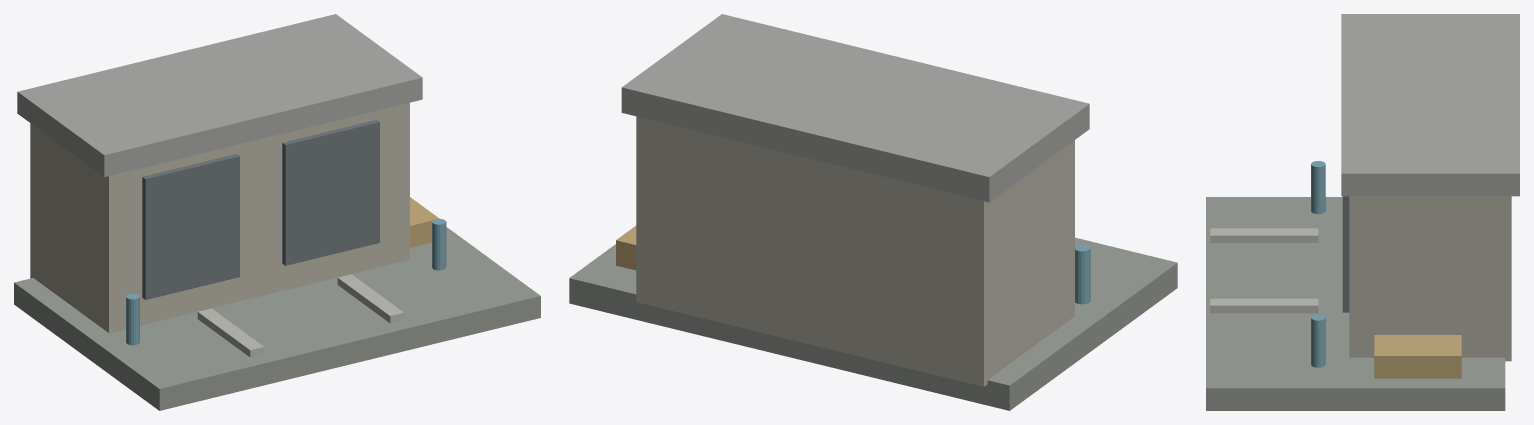
Rendered from builder.glb.
3 views of the same model, side by side, from view 1: azimuth 30°, elevation 25°; view 2: azimuth 150°, elevation 25°; view 3: azimuth 270°, elevation 25° (orthographic). The views are drawn at different scales.
Size of the model in its own units: 2.18 by 1.12 by 1.51.
